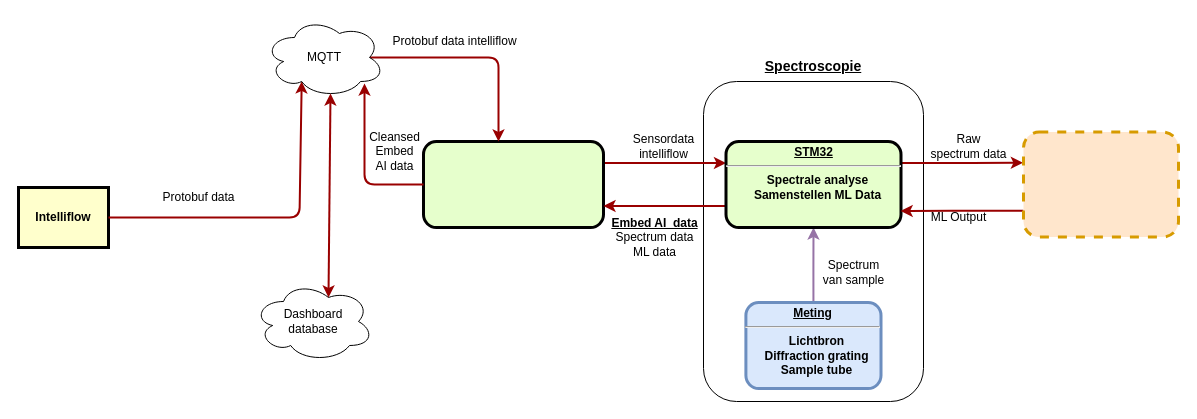
Some shapes in this 1197 by 419 pixel diagram are drawn without their labels. Each missing label, with the centre of its shape:
ESP32 Communicatie dashboard Data cleansing: (513,184)
PC Unsupervised learning Interpretatie data Processing Vloeistofclassificatie: (1101,184)
